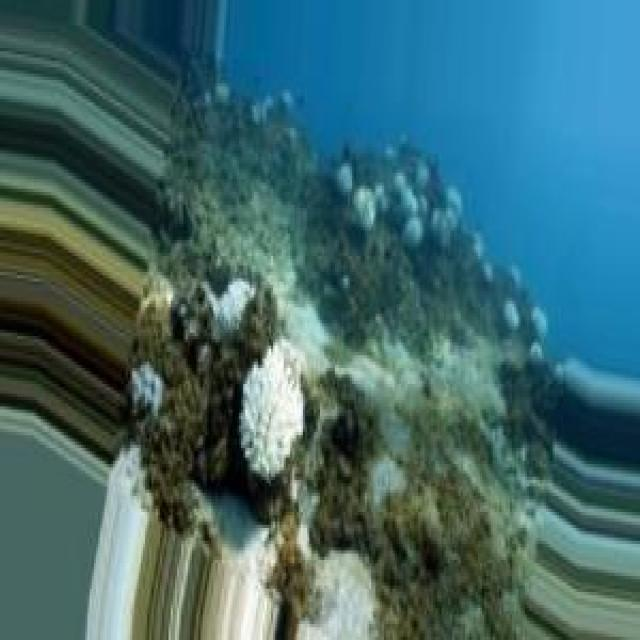Bleached: (240, 340, 304, 481)
